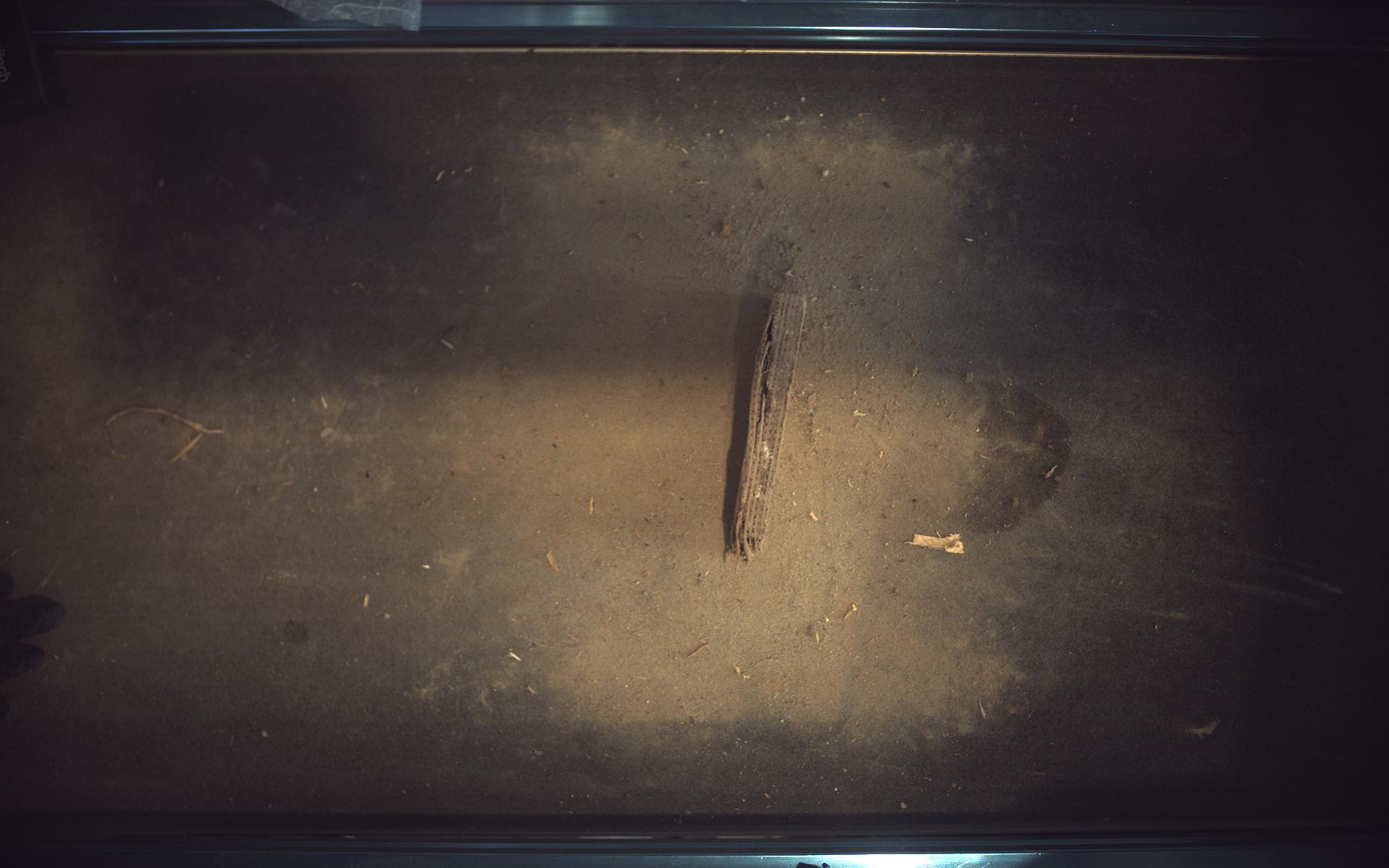wood: (731, 292, 809, 561)
